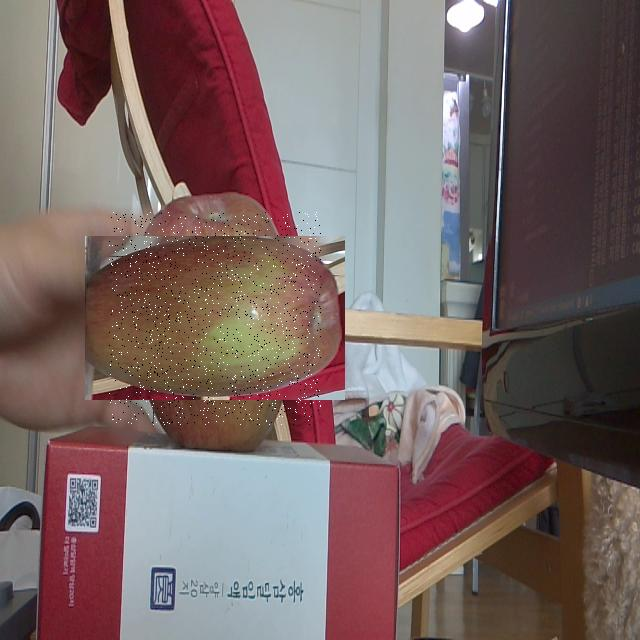apple: (109, 212, 321, 425)
